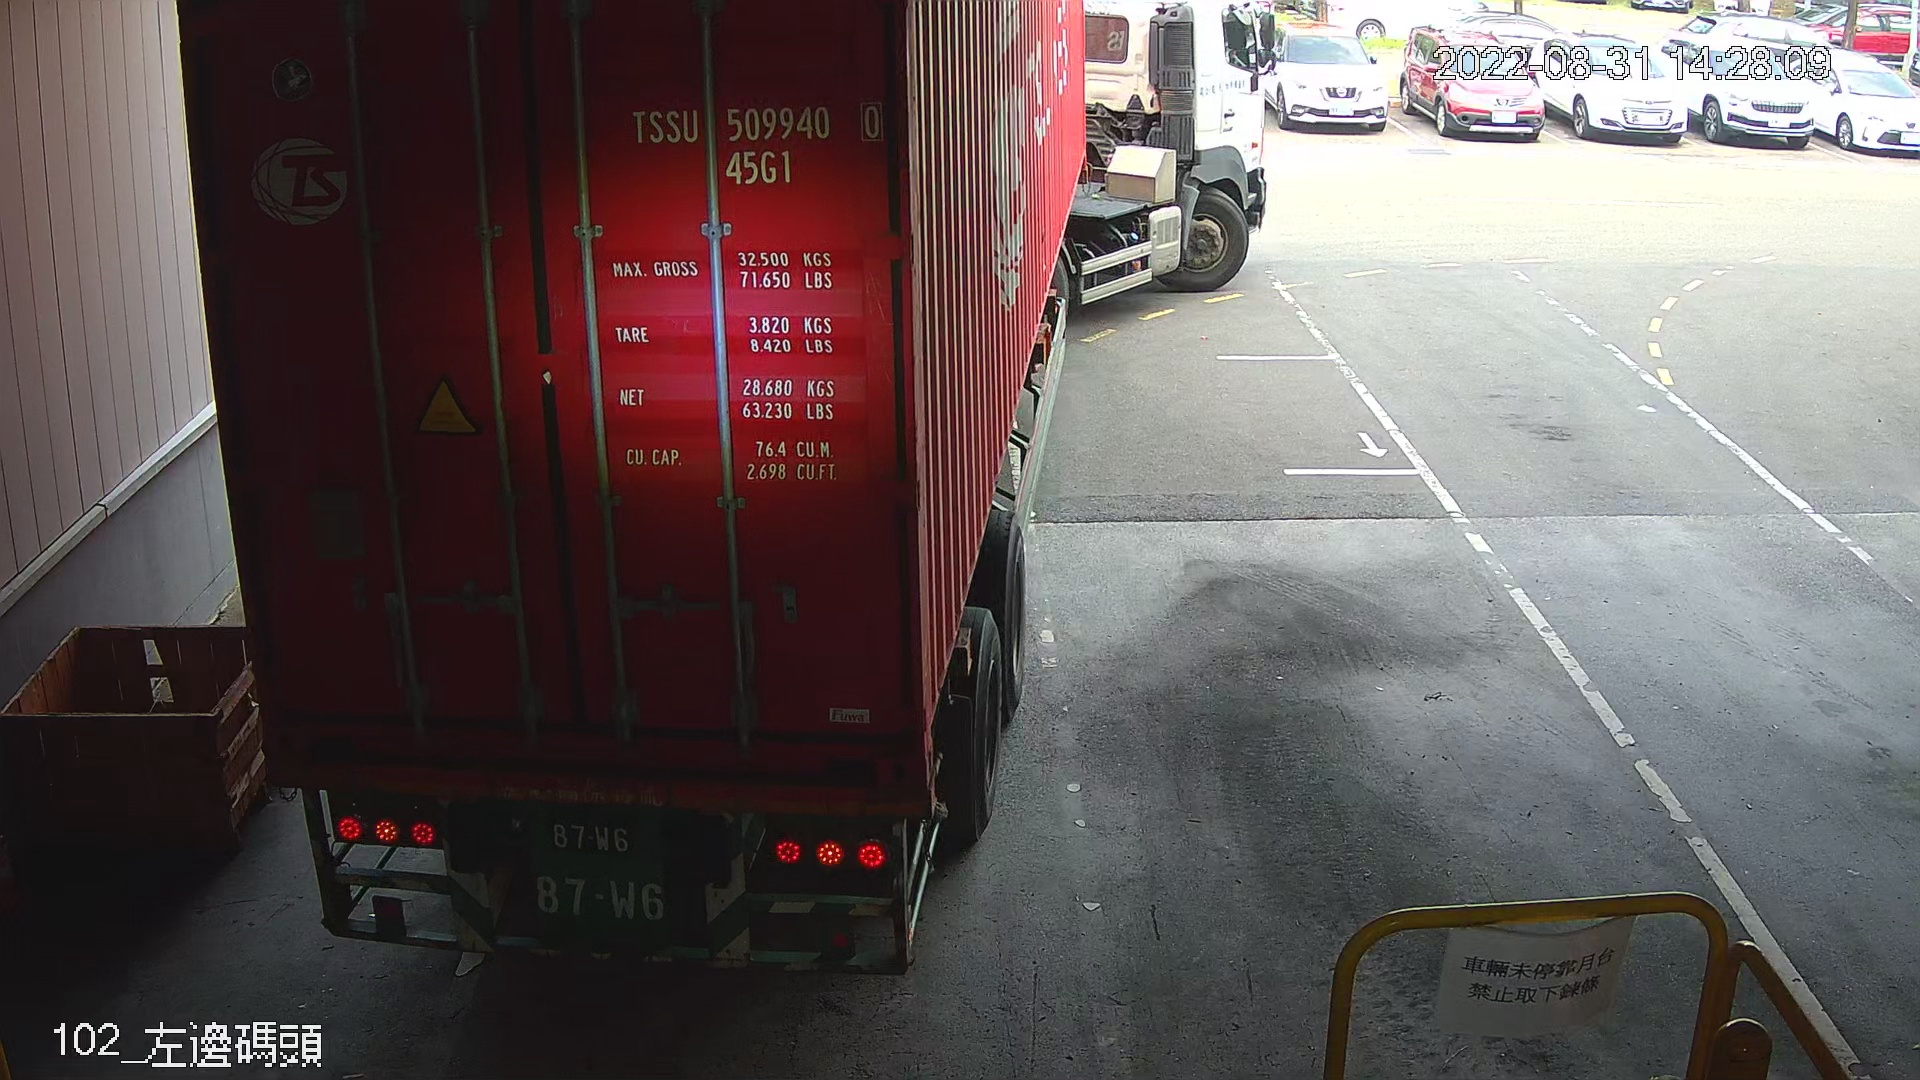container: (617, 92, 894, 195)
